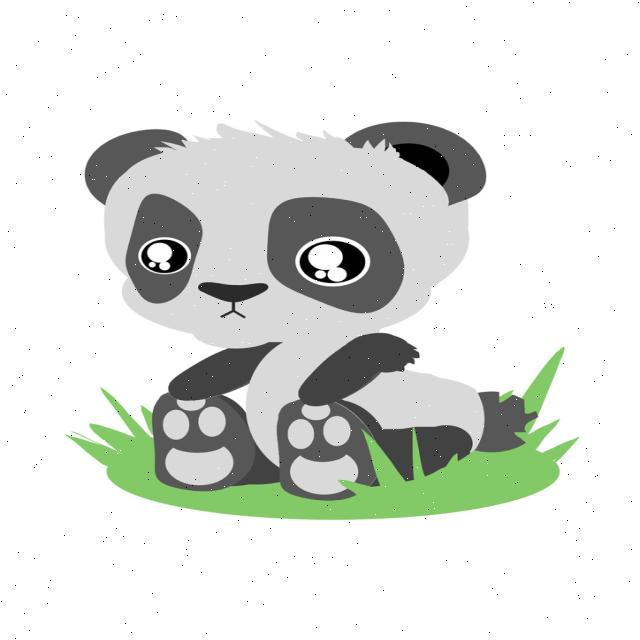panda: (80, 119, 540, 500)
